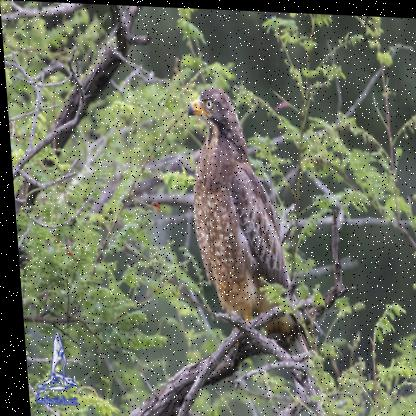Burung: (179, 81, 309, 360)
